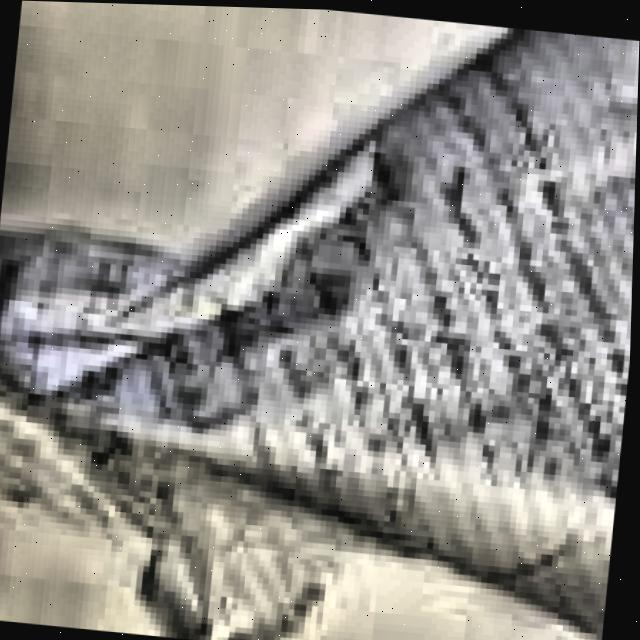paper: (0, 24, 639, 640)
